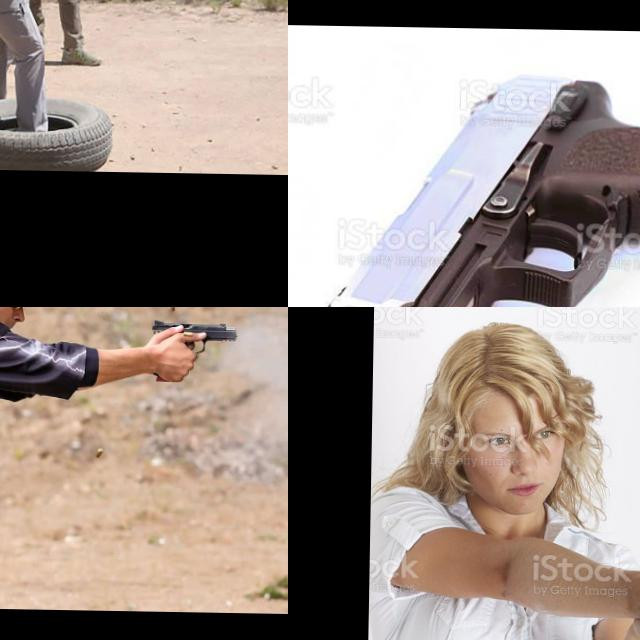handgun: (322, 65, 640, 307), (146, 315, 242, 357), (129, 0, 205, 17)
